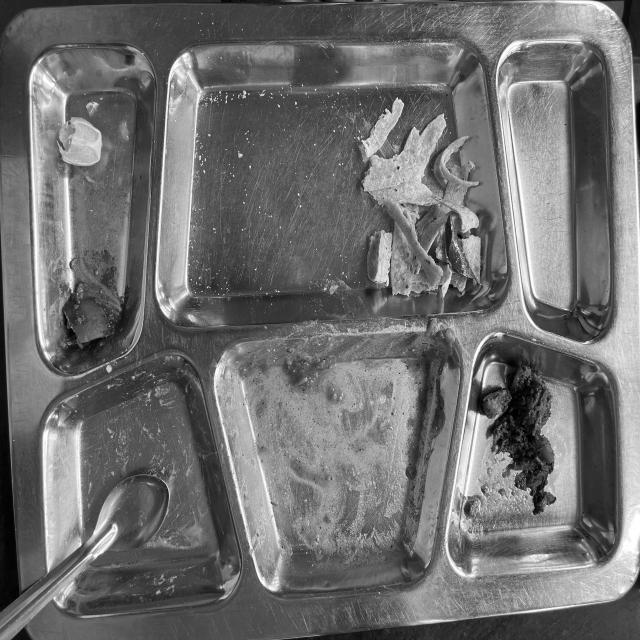0.1- Food Left: (18, 26, 625, 578)
